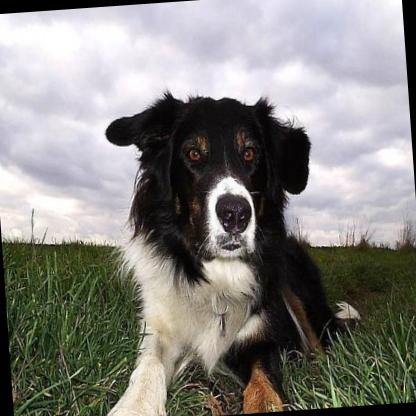Border_collie: (76, 72, 355, 416)
